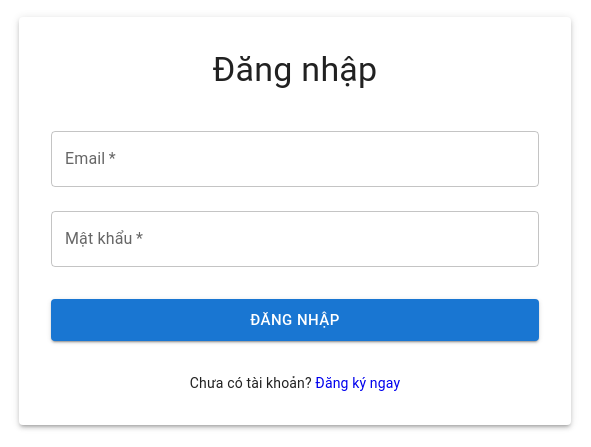
Scenario: LoginPage › should disable submit button while loading
Type "test@example.com" into the field labelled "Email *".
click(295, 159); type("test@example.com")  # box [51, 131, 539, 187]
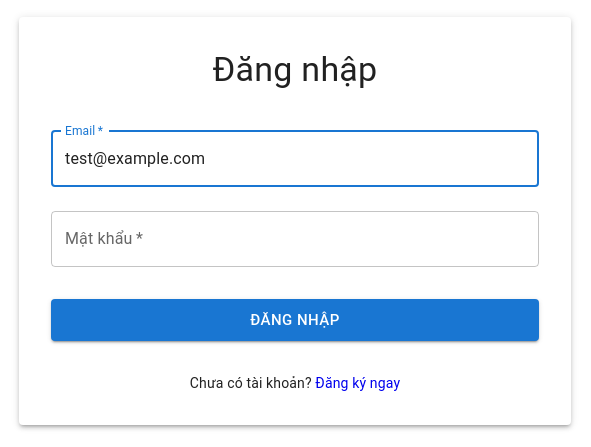
Type "password123" into the password field labelled "Mật khẩu *".
click(295, 239); type("password123")  # box [51, 211, 539, 267]
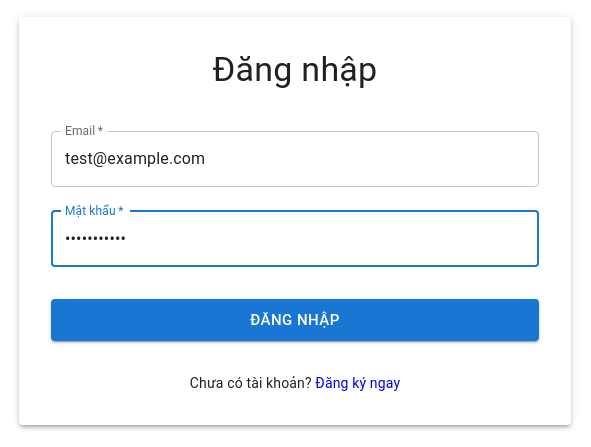
Click the button "Đăng nhập".
click(295, 320)  # box [51, 299, 539, 341]
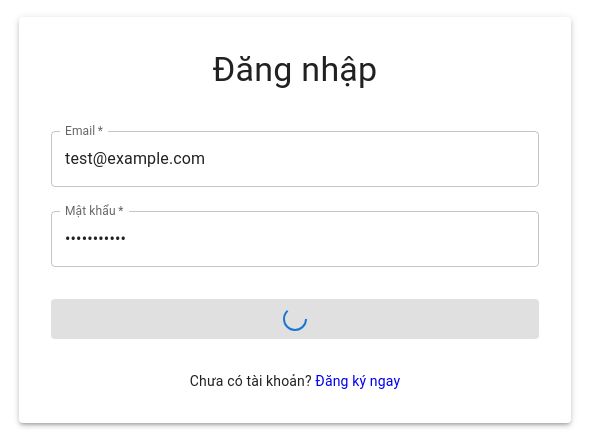
Result: the button named "đăng nhập" is disabled at [51, 299, 539, 339]
